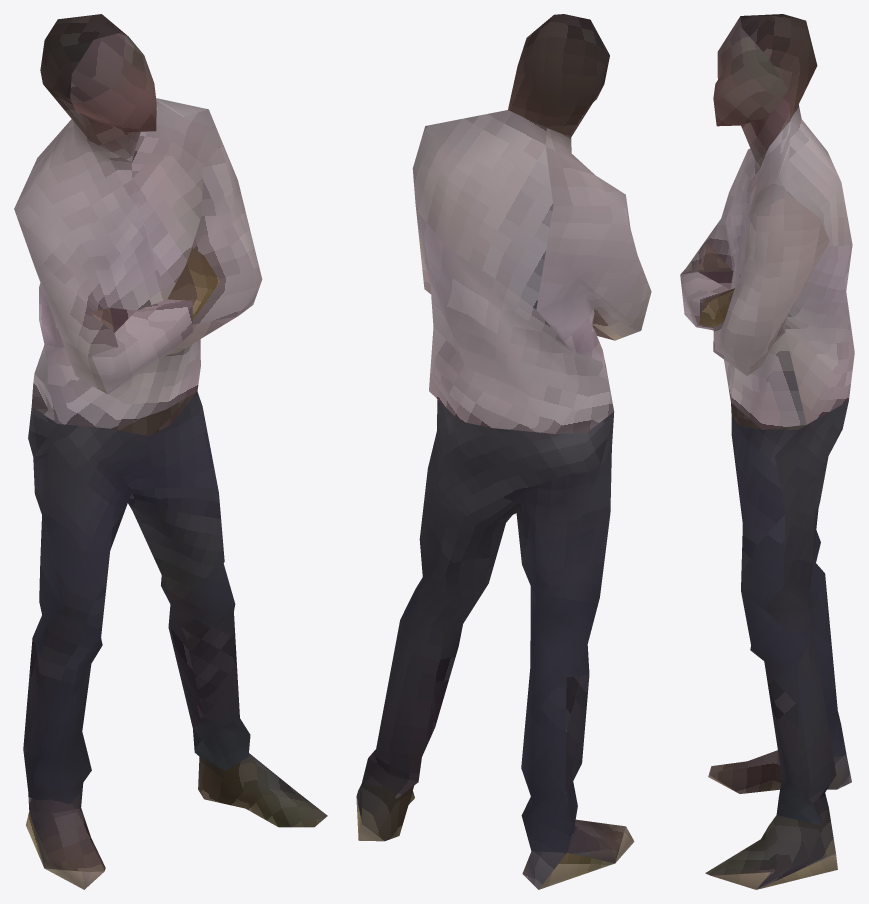
The picture shows the model from 3 angles, left to right: view 1: azimuth 30°, elevation 25°; view 2: azimuth 150°, elevation 25°; view 3: azimuth 270°, elevation 25°; orthographic projection. The views are drawn at different scales.
Visible parts, largest first — view 1: Cas_Sum_Man_RtStand_366_StingrayPBS1_0; view 2: Cas_Sum_Man_RtStand_366_StingrayPBS1_0; view 3: Cas_Sum_Man_RtStand_366_StingrayPBS1_0.
Part boxes in pixels (x1=…): Cas_Sum_Man_RtStand_366_StingrayPBS1_0: x1=14, y1=14, x2=327, y2=889; Cas_Sum_Man_RtStand_366_StingrayPBS1_0: x1=356, y1=14, x2=651, y2=889; Cas_Sum_Man_RtStand_366_StingrayPBS1_0: x1=680, y1=14, x2=854, y2=889.
Size of the model in its own units: 0.623 by 1.76 by 0.3564.
1 material, 1 textured.
